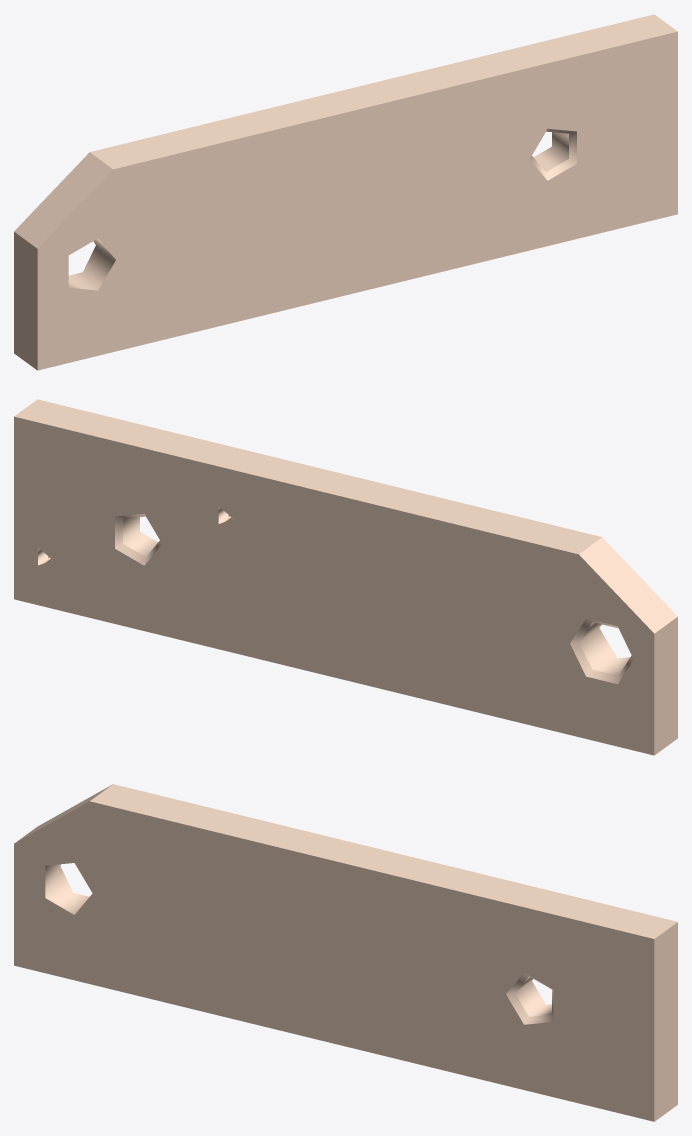
File: Pied roue intermediaire quantieme - plaque.obj
3 views of the same model, one above another, from view 1: azimuth 30°, elevation 25°; view 2: azimuth 150°, elevation 25°; view 3: azimuth 330°, elevation 25° (orthographic).
Parts seen in each view (by area): view 1: Face_6, Face_2, Face_3, Face_4, Face_9, Face_8, Face_14; view 2: Face_7, Face_2, Face_3, Face_4, Face_9, Face_16, Face_8, Face_15; view 3: Face_6, Face_2, Face_1, Face_9, Face_8, Face_14.
Boxes of the visible parts, <box> form: Face_6: <box>37,31,677,370</box>; Face_2: <box>90,14,677,169</box>; Face_3: <box>14,152,112,248</box>; Face_4: <box>14,232,37,370</box>; Face_9: <box>68,238,115,290</box>; Face_8: <box>534,132,568,171</box>; Face_14: <box>529,128,576,180</box>; Face_7: <box>14,416,654,755</box>; Face_2: <box>14,399,601,554</box>; Face_3: <box>579,537,677,633</box>; Face_4: <box>654,617,677,755</box>; Face_9: <box>579,622,630,675</box>; Face_16: <box>570,618,633,684</box>; Face_8: <box>123,517,157,556</box>; Face_15: <box>115,513,162,565</box>; Face_6: <box>14,801,654,1121</box>; Face_2: <box>90,784,677,938</box>; Face_1: <box>654,922,677,1121</box>; Face_9: <box>45,864,89,914</box>; Face_8: <box>515,976,551,1016</box>; Face_14: <box>506,973,553,1024</box>.
Bounding box in the file's own units: 0.055 × 0.015 × 0.0035.
